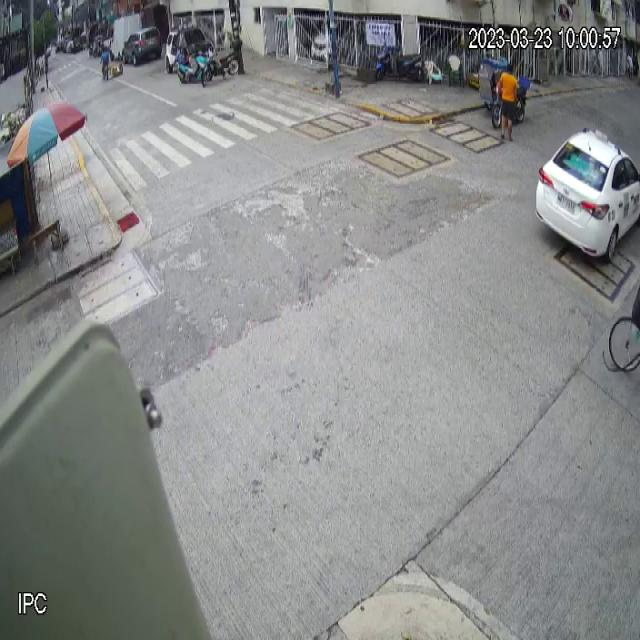Car: (535, 124, 640, 267)
